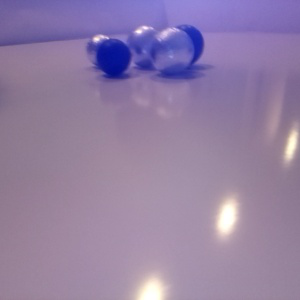alive_ball: (151, 27, 194, 75), (128, 25, 165, 67), (85, 34, 114, 66)
dead_ball: (170, 24, 204, 66), (97, 39, 132, 76)
